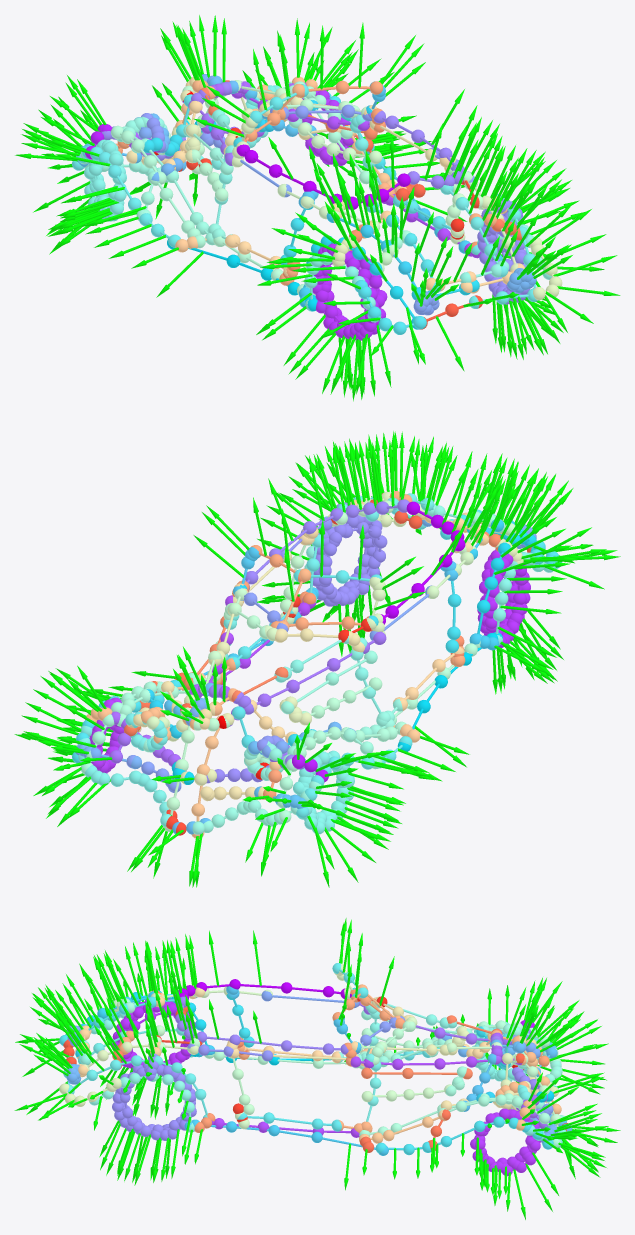
File: cassie_car.gltf
3 views of the same model, one above another, from view 1: azimuth 30°, elevation 25°; view 2: azimuth 150°, elevation 25°; view 3: azimuth 270°, elevation 25° (orthographic). The views are drawn at different scales.
Bounding box in the file's own units: 0.5936 × 0.4488 × 1.06.
